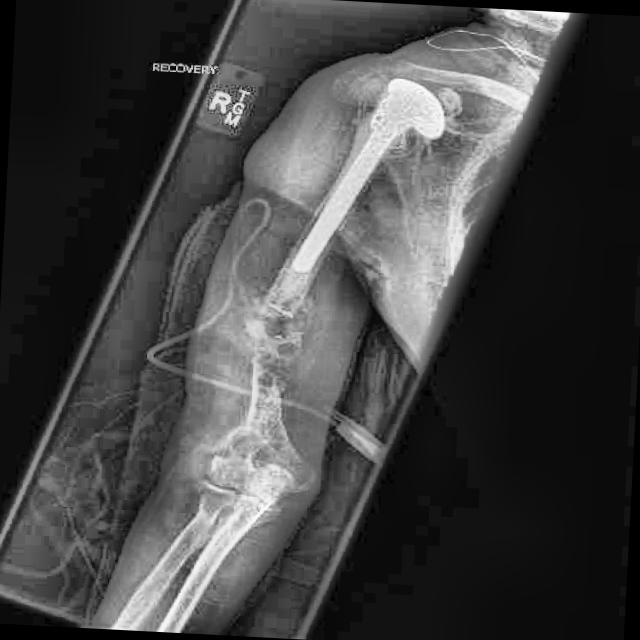humerus: (205, 268, 336, 428)
